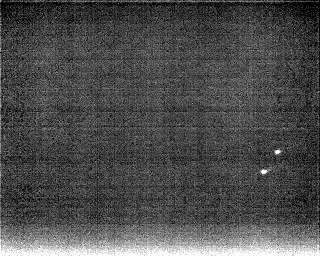BIRD: (258, 166, 269, 178)
